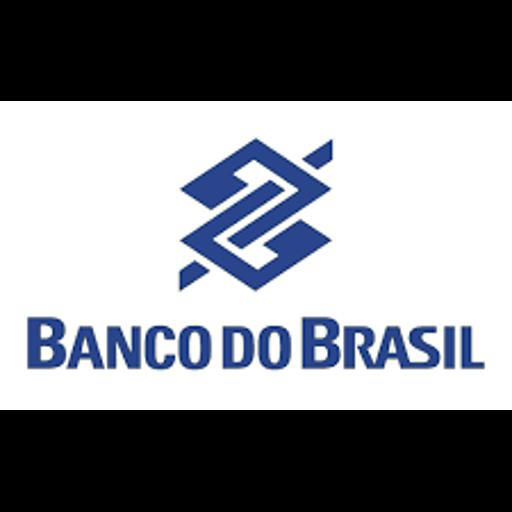Banco do Brasil S-A: (0, 101, 512, 410)
